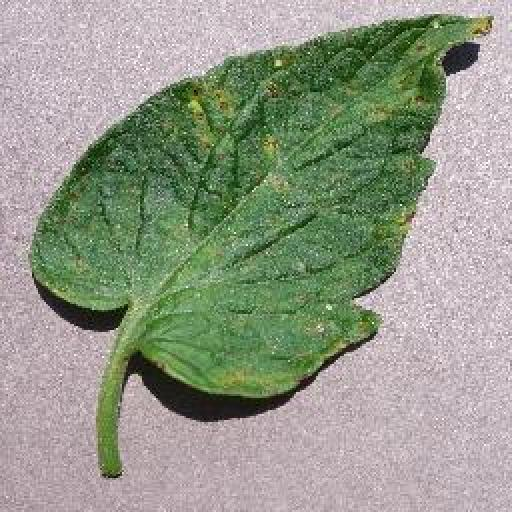Septoria: (32, 16, 491, 399)
